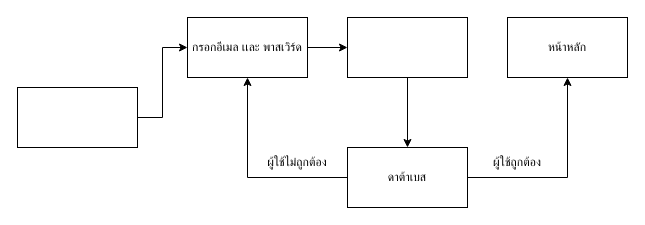
Image size: 645x225. Some labels were removed from this diagram. The shapes that lost their labels are listed below. From the top down, each one's centre as x and y in pixels, then its label:
At (x=407, y=47): "ตรวจสอบผู้ใช้".
At (x=77, y=117): "เข้าสู่ระบบ".
